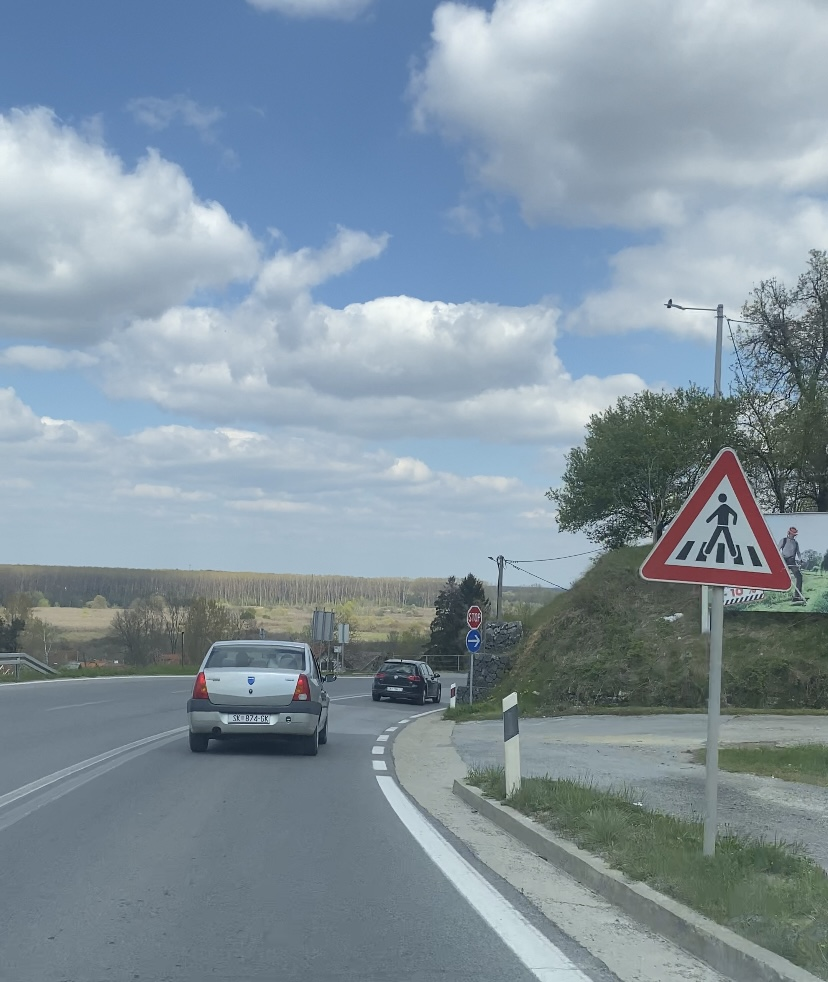Obavezno zaustavljanje: (467, 605, 481, 628)
Približavanje pješačkom prijelazu: (638, 446, 793, 592)
